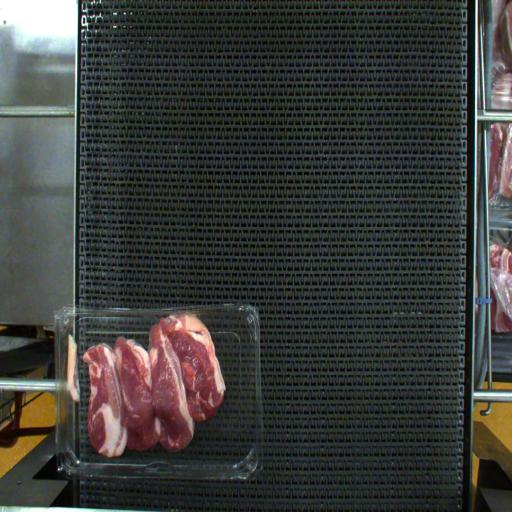loose-meat: (65, 322, 89, 419)
packaging-error: (167, 299, 211, 336)
